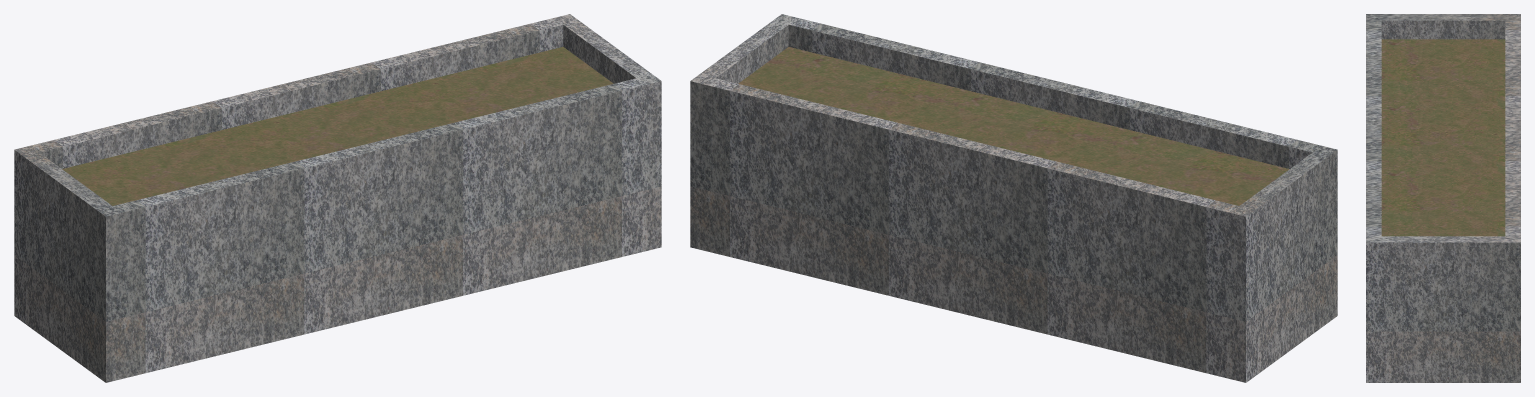
File: Flowerpot.FBX
The picture shows the model from 3 angles, left to right: view 1: azimuth 30°, elevation 25°; view 2: azimuth 150°, elevation 25°; view 3: azimuth 270°, elevation 25°; orthographic projection. The views are drawn at different scales.
Parts seen in each view (by area): view 1: Flowerpot; view 2: Flowerpot; view 3: Flowerpot.
Part boxes in pixels (<box>): Flowerpot: <box>14,14,661,382</box>; Flowerpot: <box>690,14,1337,382</box>; Flowerpot: <box>1366,14,1520,382</box>.
Bounding box in the file's own units: 350 × 100 × 100.
Materials: 2 (2 with a texture image).
